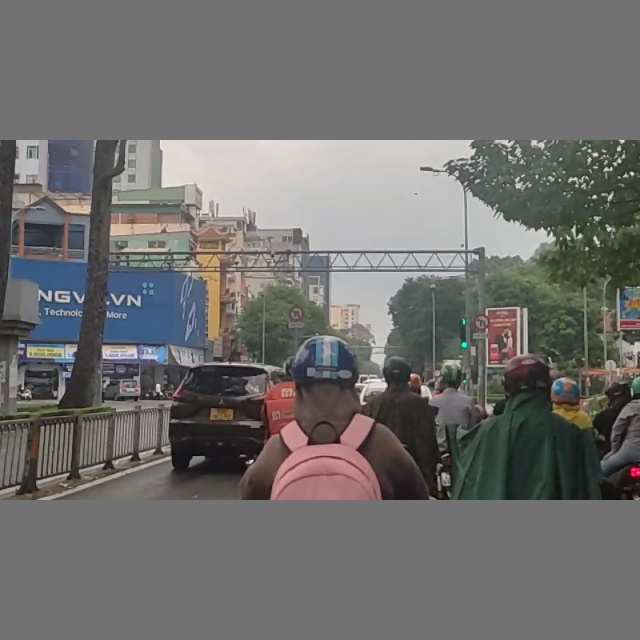P.124c: (287, 306, 305, 323), (473, 315, 489, 331)
